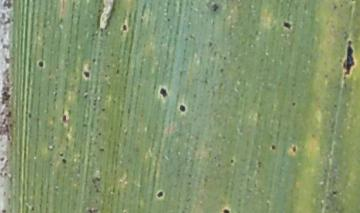tarspot: (338, 37, 358, 80), (157, 84, 171, 102), (280, 17, 293, 31), (209, 1, 222, 15), (154, 188, 166, 201), (268, 140, 279, 154), (176, 102, 188, 114), (58, 155, 71, 166), (60, 112, 69, 126), (36, 58, 47, 69), (120, 22, 130, 34), (289, 98, 299, 110), (97, 104, 107, 116), (290, 143, 299, 156), (82, 68, 91, 80), (97, 144, 106, 155), (82, 90, 90, 102), (228, 156, 236, 168), (219, 206, 232, 213), (89, 56, 98, 66), (25, 110, 34, 120)
